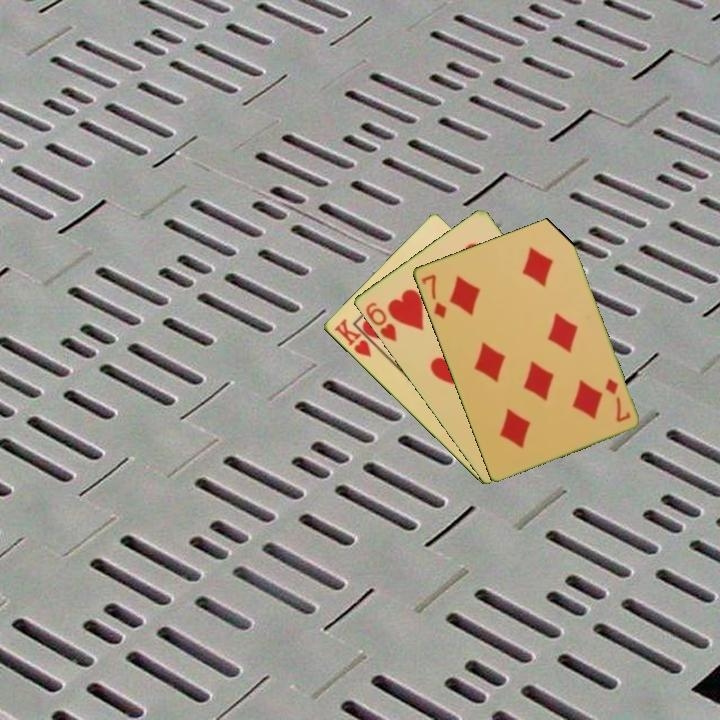6h: (362, 298, 399, 344)
7d: (601, 374, 633, 425), (418, 270, 449, 321)
Kh: (330, 315, 382, 360)
